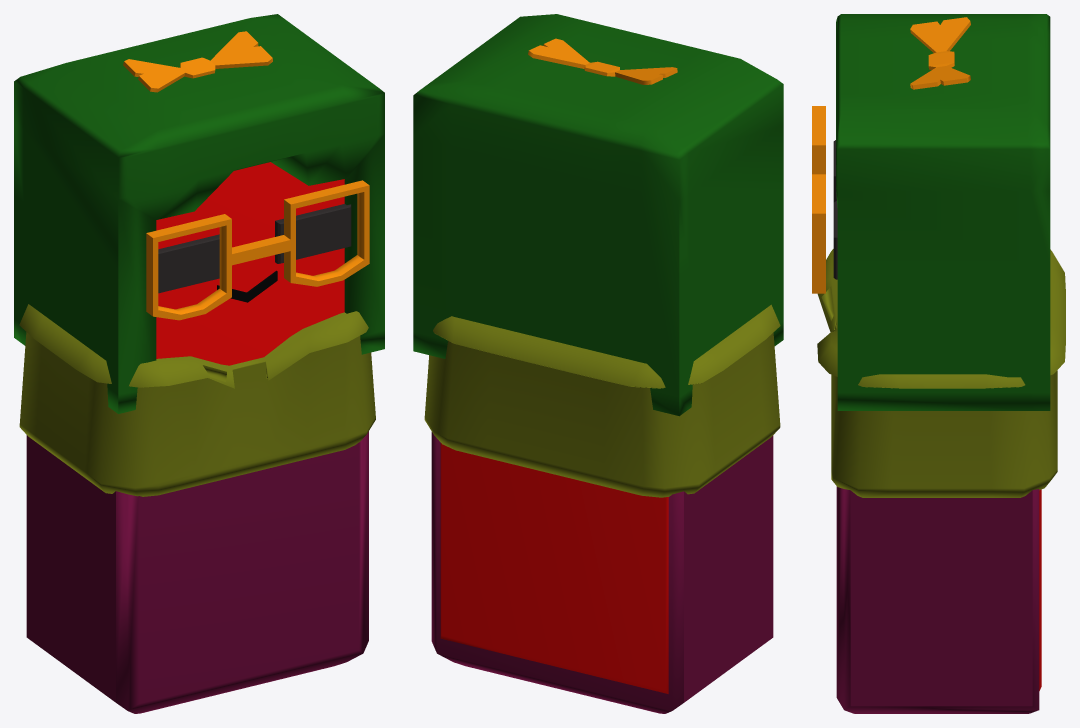
File: Student D File.fbx
3 views of the same model, side by side, from view 1: azimuth 30°, elevation 25°; view 2: azimuth 150°, elevation 25°; view 3: azimuth 270°, elevation 25° (orthographic). The views are drawn at different scales.
Visible parts, largest first — view 1: Student_D_Body1 (×7); view 2: Student_D_Body1 (×5); view 3: Student_D_Body1 (×5).
Part boxes in pixels (x1,y1,x2,y2): Student_D_Body1 (×7): (14,14,384,713); Student_D_Body1 (×5): (413,14,783,713); Student_D_Body1 (×5): (812,14,1065,713).
Bounding box in the file's own units: 71.92 × 146 × 54.44.
